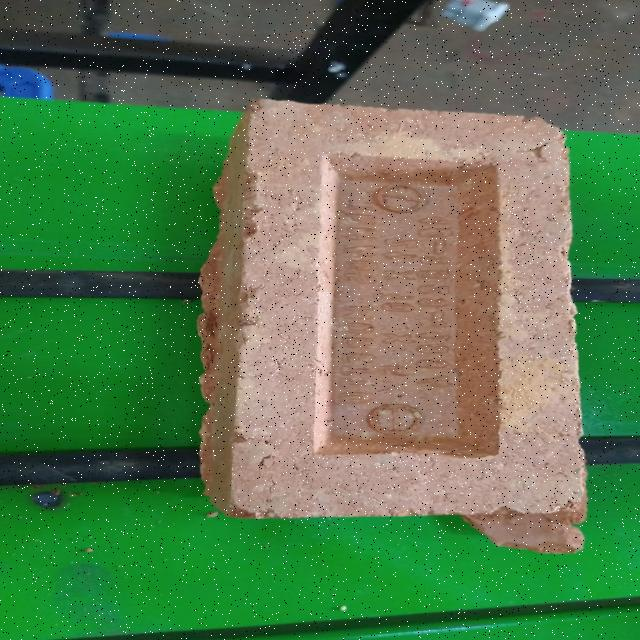bricks_ruin: (192, 96, 591, 555)
